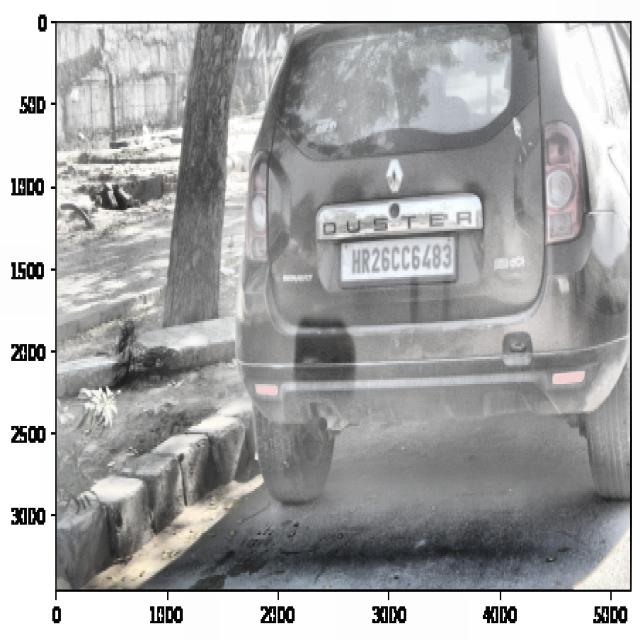license_plate: (347, 237, 455, 281)
